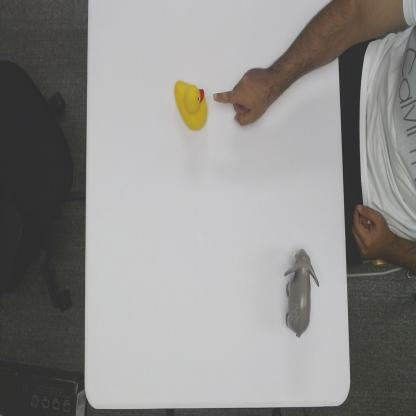Arm: (271, 1, 340, 103)
Duck: (173, 79, 208, 132)
Elephant: (283, 246, 320, 339)
Hand: (212, 67, 274, 130)
